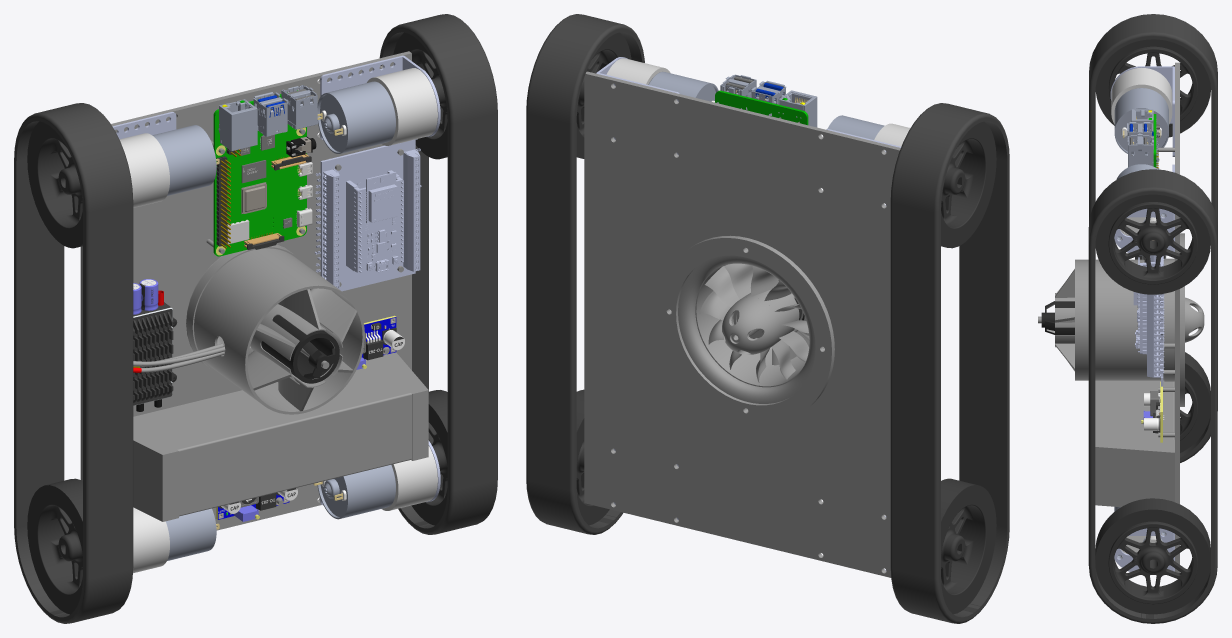
File: Robot.glb
The picture shows the model from 3 angles, left to right: view 1: azimuth 30°, elevation 25°; view 2: azimuth 150°, elevation 25°; view 3: azimuth 270°, elevation 25°; orthographic projection. The views are drawn at different scales.
Visible parts, largest first — view 1: Solid1 (×18), Solid3 (×3), Solid2 (×5), Solid102, Solid173, Solid4, Solid7, Solid100, Solid5; view 2: Solid1 (×11), Solid3 (×2), Solid2 (×3); view 3: Solid1 (×18), Solid3 (×2), Solid2 (×3), Solid6, Solid7, Solid172.
Boxes of the visible parts, x1,y1,x2,y2 form: Solid1 (×18): (27, 51, 447, 617); Solid3 (×3): (14, 14, 497, 623); Solid2 (×5): (27, 33, 447, 405); Solid102: (320, 139, 417, 291); Solid173: (356, 179, 403, 273); Solid4: (247, 307, 342, 390); Solid7: (250, 288, 356, 360); Solid100: (368, 184, 397, 222); Solid5: (250, 307, 324, 411); Solid1 (×11): (576, 58, 1007, 613); Solid3 (×2): (526, 14, 1009, 623); Solid2 (×3): (576, 32, 1007, 382); Solid1 (×18): (1038, 62, 1210, 618); Solid3 (×2): (1088, 14, 1217, 623); Solid2 (×3): (1055, 39, 1210, 347); Solid6: (1055, 299, 1074, 369); Solid7: (1055, 294, 1074, 342); Solid172: (1137, 294, 1146, 354).
Bounding box in the file's own units: 0.2512 × 0.2912 × 0.1088.
